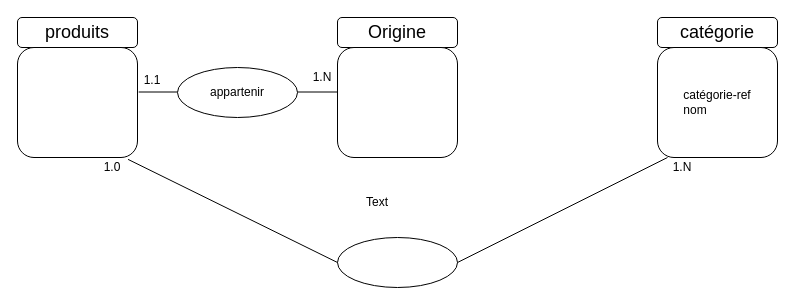
Some shapes in this 795 by 305 pixel diagram are drawn without their labels. Here are the shapes that lost their labels. From the top down, the centre of each, then its label:
pixel 77 102: produit_ref description référence prix disponibilité
pixel 397 102: origine-ref nom
pixel 397 262: avoir
